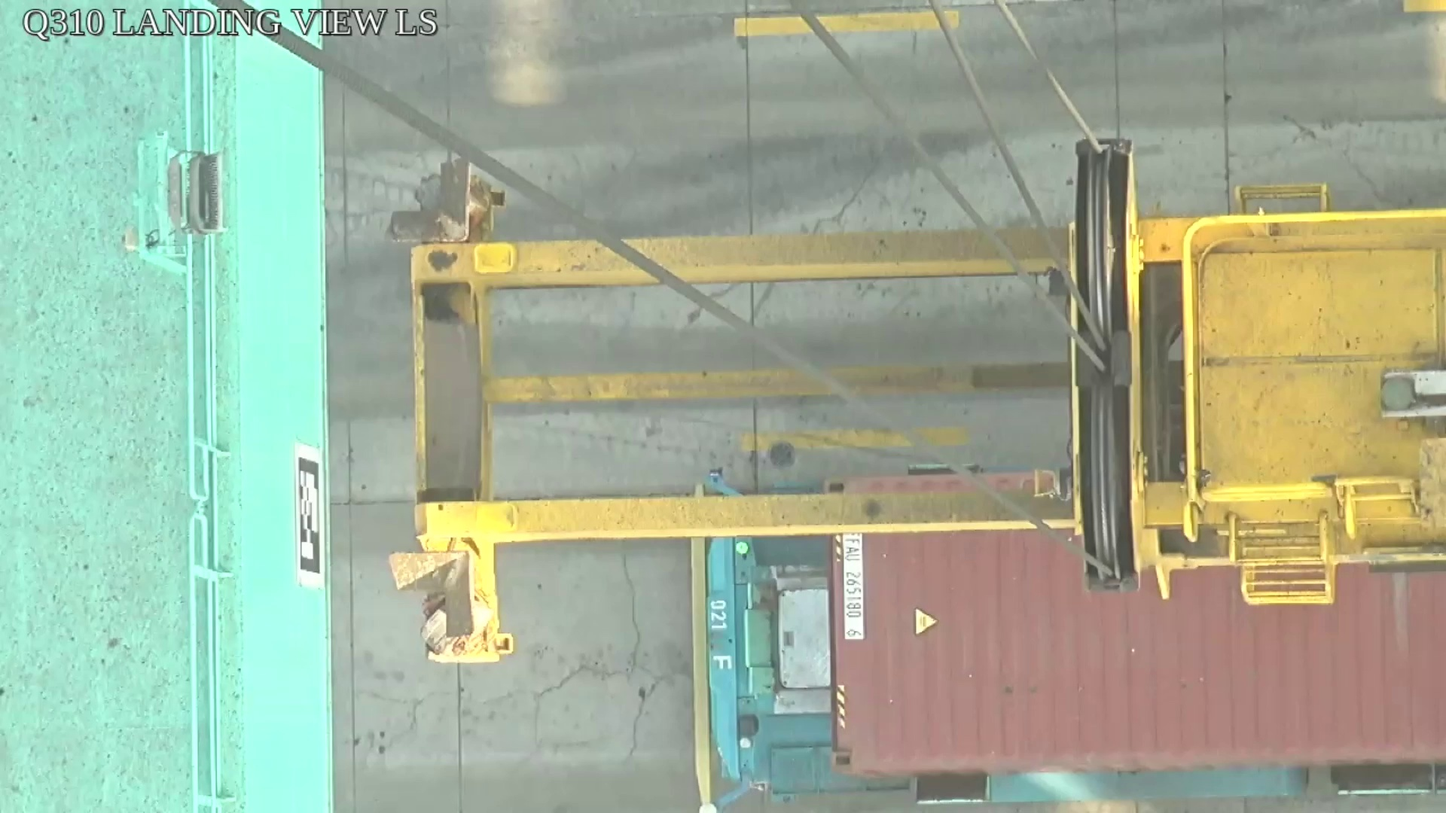aa: (1069, 138, 1152, 594)
